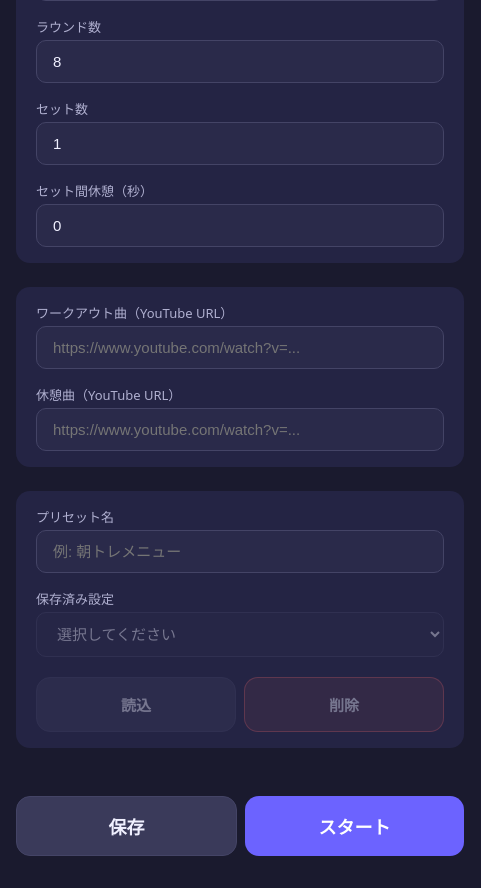
Test case: App 統合テスト › 空プリセット名は保存できない
The width and height of the screenshot is (481, 888).
(page scrolled)
Click the button "保存" at (126, 826), box [16,796,237,856]
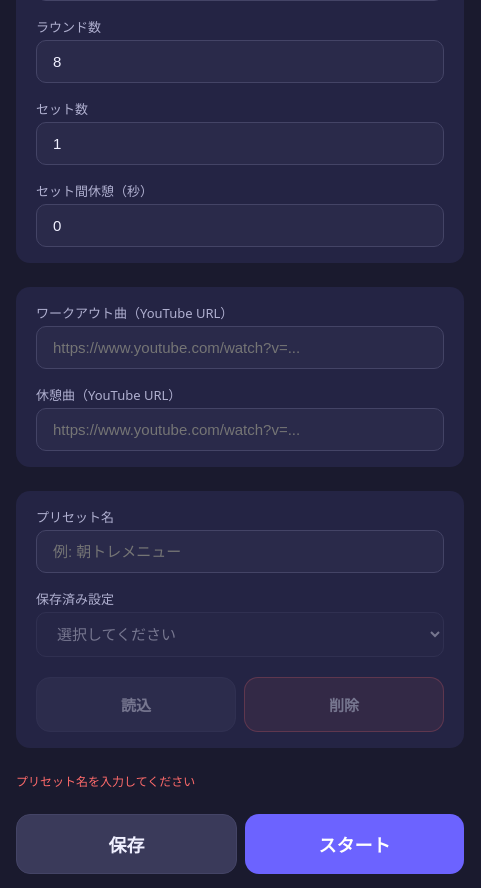
expect the text "プリセット名を入力してください" is shown: met, box [16,773,195,790]
